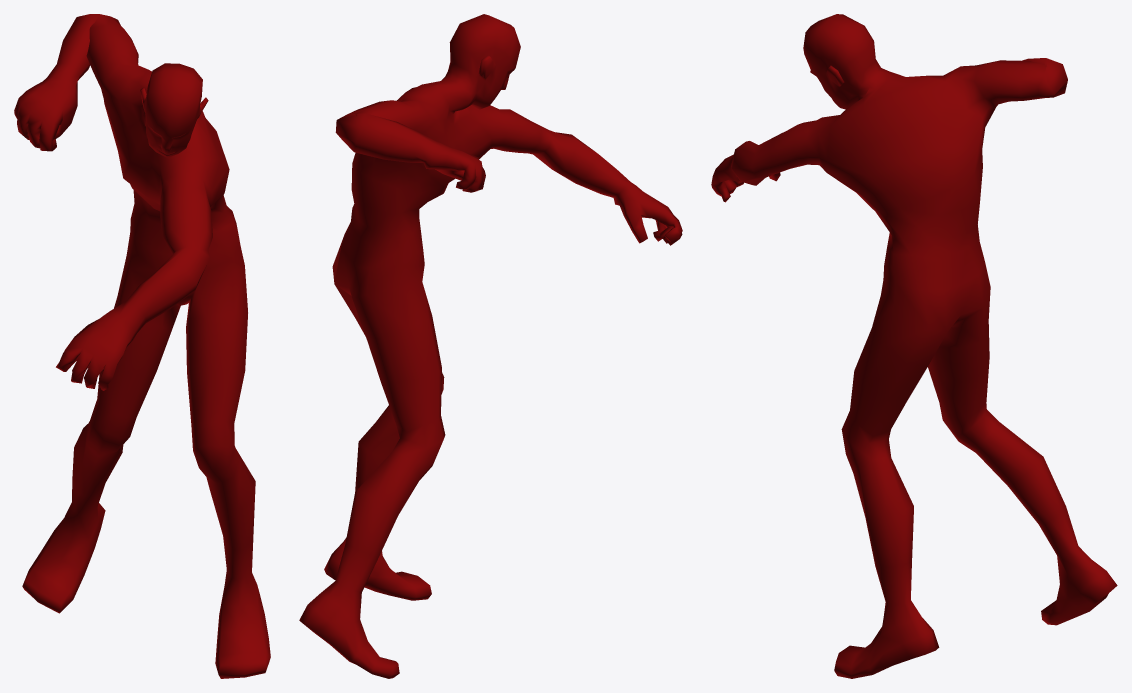
Rendered from attack_8.obj.
The picture shows the model from 3 angles, left to right: view 1: azimuth 30°, elevation 25°; view 2: azimuth 150°, elevation 25°; view 3: azimuth 270°, elevation 25°; orthographic projection. The views are drawn at different scales.
Visible parts, largest first — view 1: Low_Poly_Characte.000_Mesh.001; view 2: Low_Poly_Characte.000_Mesh.001; view 3: Low_Poly_Characte.000_Mesh.001.
Part boxes in pixels (left/top/right/bottom): Low_Poly_Characte.000_Mesh.001: left=14, top=14, right=270, bottom=678; Low_Poly_Characte.000_Mesh.001: left=299, top=14, right=682, bottom=678; Low_Poly_Characte.000_Mesh.001: left=711, top=14, right=1117, bottom=678.
Size of the model in its own units: 1.41 by 2.91 by 1.74.
